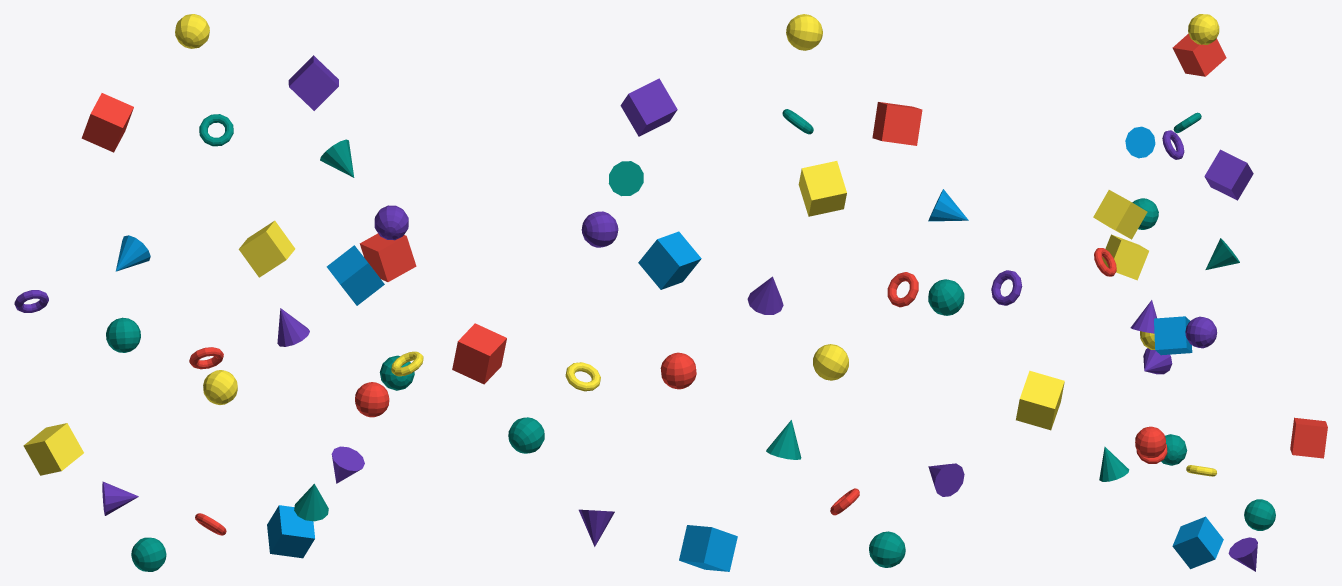
File: confetti.fbx
3 renders of one model, left to right at view 1: azimuth 30°, elevation 25°; view 2: azimuth 150°, elevation 25°; view 3: azimuth 270°, elevation 25°, orthographic. The views are drawn at different scales.
Visible parts, largest first — view 1: mesh_709335675, mesh_1077739897, mesh_38611248, mesh_1640727703, mesh_1418949159, mesh_1151794657, mesh_876584932, mesh_399552111, mesh_1010847707, mesh_1029416125, mesh_1586319428, mesh_889319016 (+12 smaller); view 2: mesh_1151794657, mesh_1418949159, mesh_1077739897, mesh_1640727703, mesh_709335675, mesh_876584932, mesh_38611248, mesh_10512063, mesh_1586319428, mesh_1010847707, mesh_889319016, mesh_399552111 (+6 smaller); view 3: mesh_1077739897, mesh_876584932, mesh_1640727703, mesh_38611248, mesh_1151794657, mesh_1418949159, mesh_709335675, mesh_1254538524, mesh_889319016, mesh_1010847707, mesh_10512063, mesh_175355384 (+9 smaller).
Boxes of the visible parts, x1,y1,x2,y2 form: mesh_709335675: (23,423,83,475); mesh_1077739897: (267,505,314,558); mesh_38611248: (81,93,133,152); mesh_1640727703: (238,220,295,277); mesh_1418949159: (326,245,384,305); mesh_1151794657: (359,233,416,281); mesh_876584932: (288,55,338,110); mesh_399552111: (106,317,140,352); mesh_1010847707: (355,382,389,417); mesh_1029416125: (203,370,237,404); mesh_1586319428: (131,537,166,571); mesh_889319016: (374,205,408,240); mesh_1151794657: (452,323,506,384); mesh_1418949159: (638,231,701,289); mesh_1077739897: (679,525,737,571); mesh_1640727703: (798,161,846,216); mesh_709335675: (1016,370,1064,430); mesh_876584932: (620,78,677,136); mesh_38611248: (872,102,922,145); mesh_10512063: (786,14,822,50); mesh_1586319428: (869,531,905,567); mesh_1010847707: (660,352,696,389); mesh_889319016: (581,211,618,247); mesh_399552111: (928,279,964,315); mesh_1077739897: (1172,516,1223,569); mesh_876584932: (1204,149,1253,200); mesh_1640727703: (1093,190,1147,239); mesh_38611248: (1172,33,1226,76); mesh_1151794657: (1290,417,1327,458); mesh_1418949159: (1154,316,1192,355); mesh_709335675: (1102,234,1148,280); mesh_1254538524: (1244,499,1275,530); mesh_889319016: (1185,316,1217,348); mesh_1010847707: (1135,426,1165,457); mesh_10512063: (1188,14,1219,44); mesh_175355384: (1125,126,1155,158).
Bounding box in the file's own units: 171 × 193 × 80.68.
